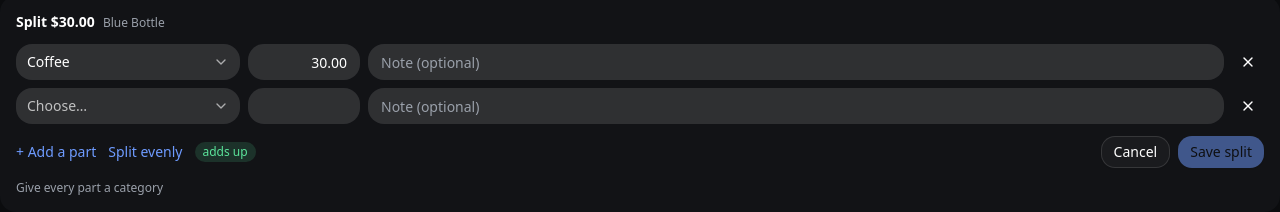
Test: SplitEditor › needs two parts
The width and height of the screenshot is (1280, 212).
Click the 2nd button named "Remove this part" at (1248, 106), box left=1232, top=90, right=1264, bottom=122
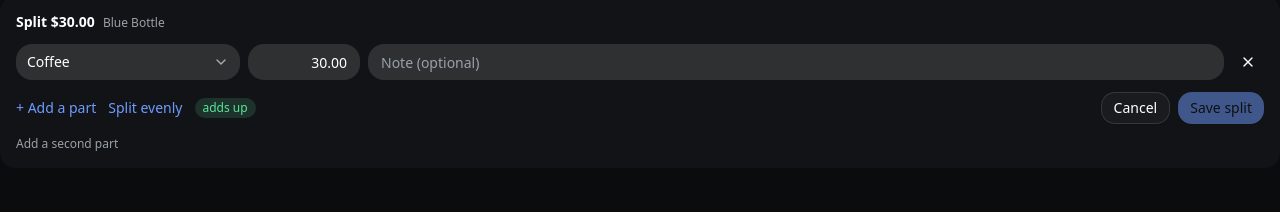
Expected: the button "Save split" is disabled, left=1178, top=92, right=1264, bottom=124
Expected: the text "Add a second part" is shown, left=16, top=135, right=118, bottom=152
